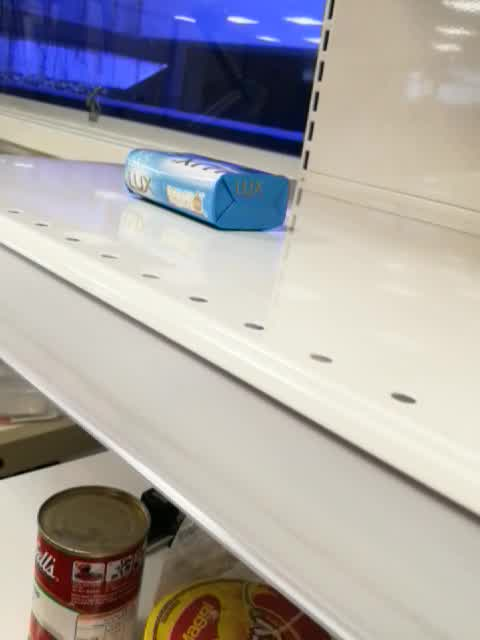soap: (122, 147, 290, 233)
